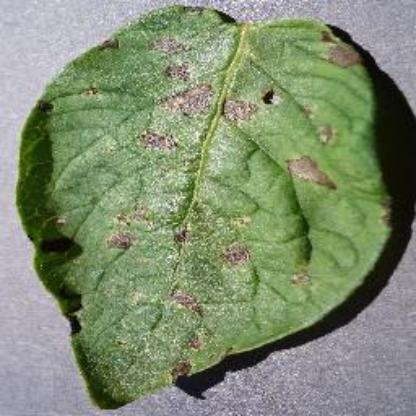Early-Blight: (17, 6, 399, 408)
